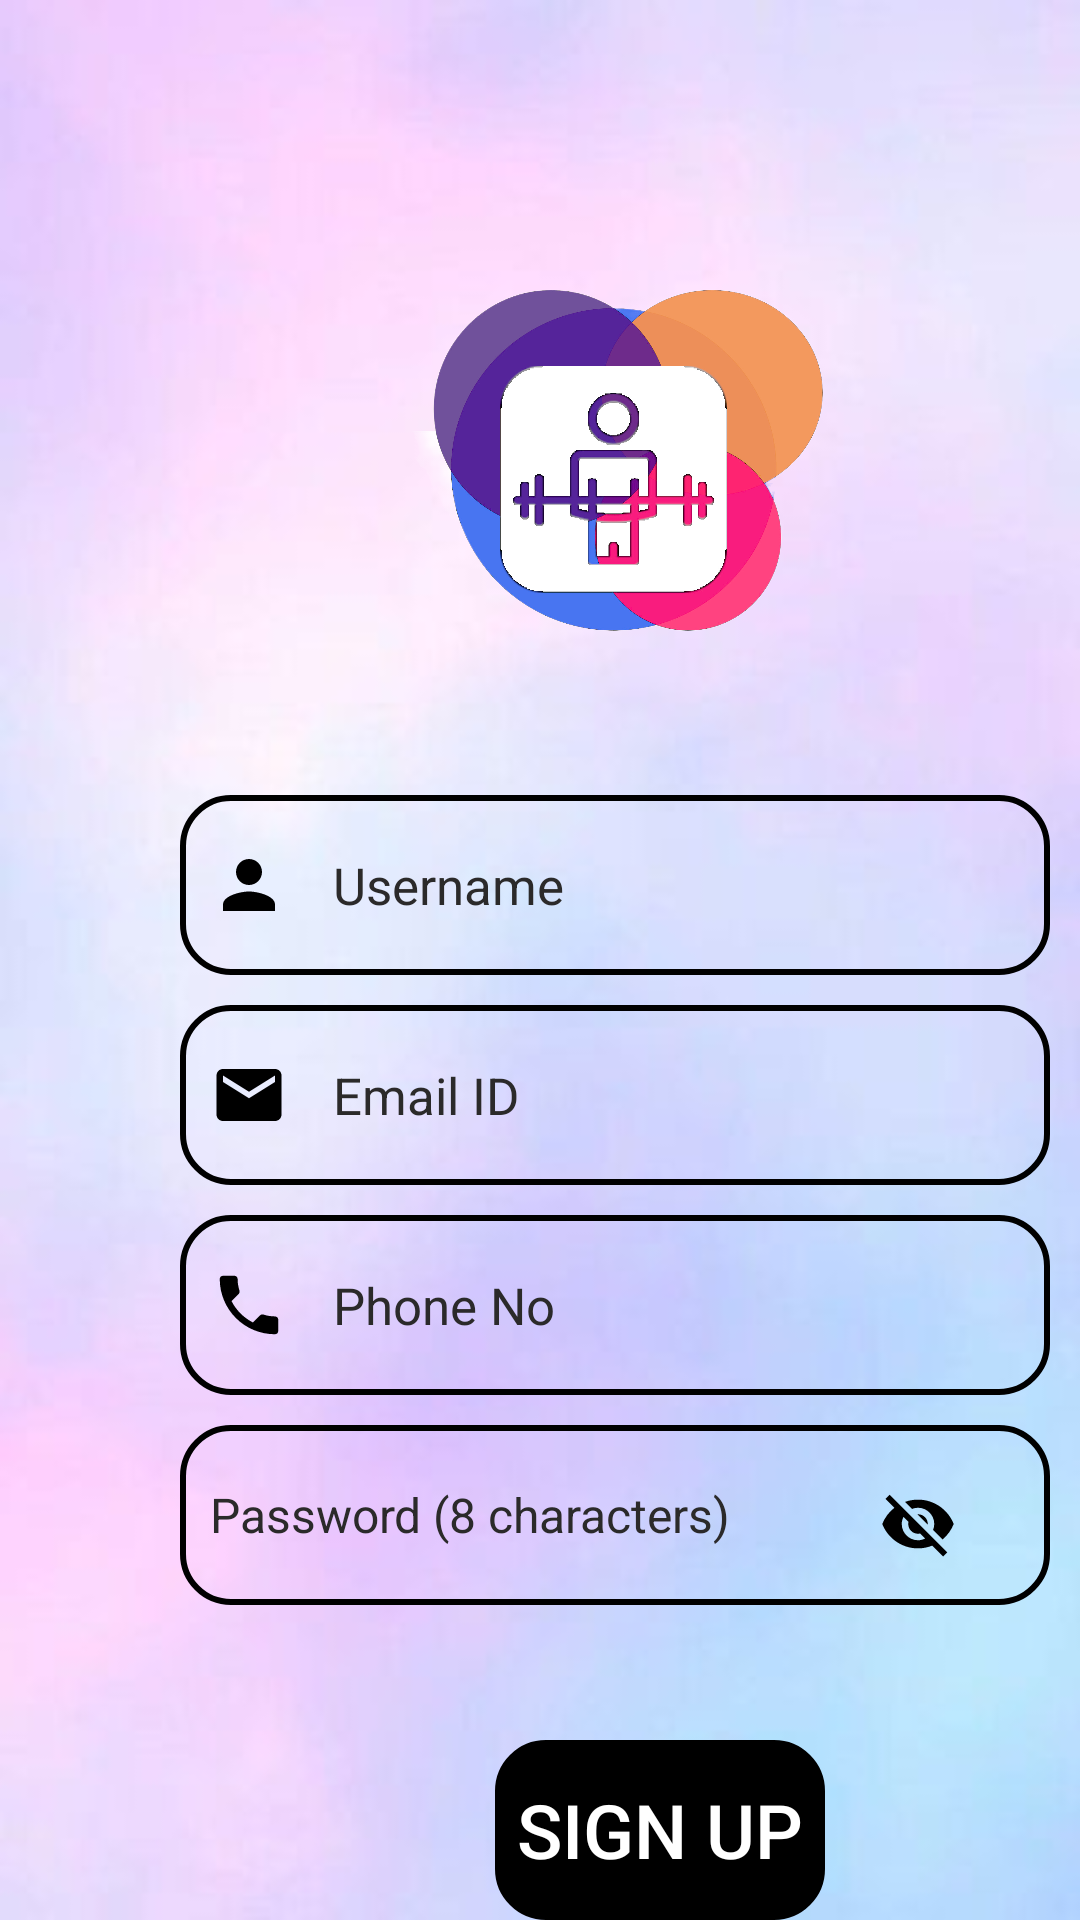

Icon bounding boxes for this 1080 × 1920 phone screenshot, format (x1, y1, x2, y2):
visibility off: (882, 1495, 954, 1557)
